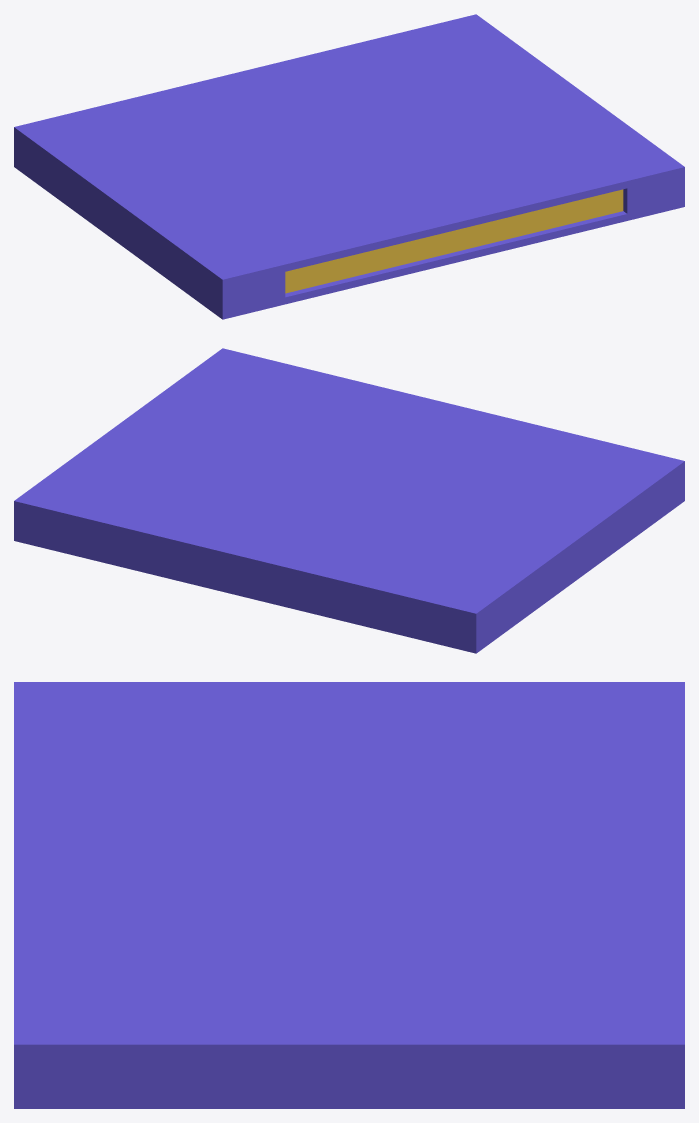
File: platforma.fbx
3 views of the same model, one above another, from view 1: azimuth 30°, elevation 25°; view 2: azimuth 150°, elevation 25°; view 3: azimuth 270°, elevation 25° (orthographic). The views are drawn at different scales.
Visible parts, largest first — view 1: Cube.002; view 2: Cube.002; view 3: Cube.002.
Part boxes in pixels (box(x1,y1,x2,y2)): Cube.002: box(14, 14, 684, 319); Cube.002: box(14, 348, 684, 653); Cube.002: box(14, 682, 684, 1108).
Size of the model in its own units: 365 by 30.12 by 285.
